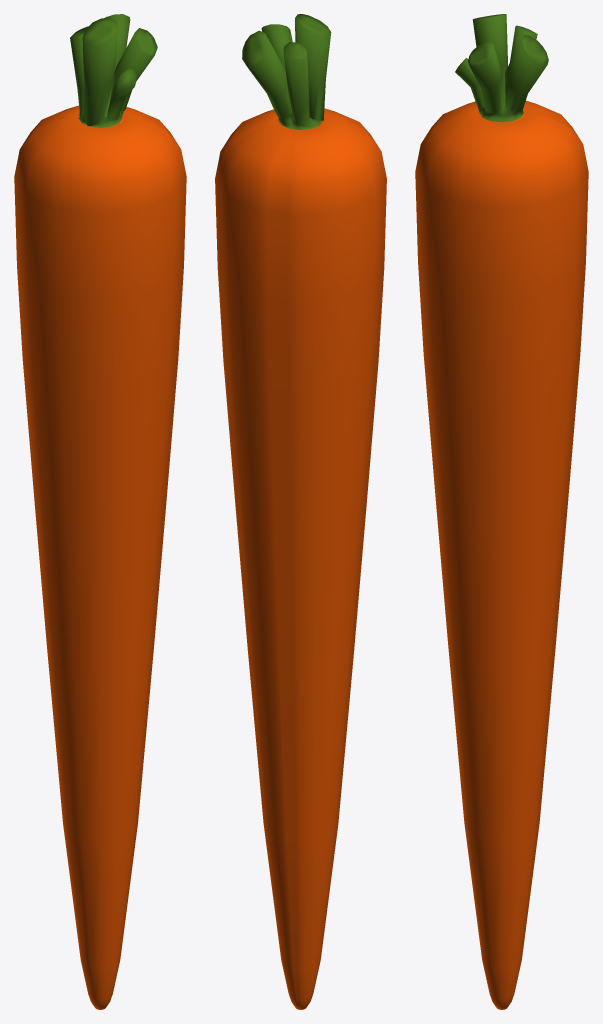
Rendered from Carrot.fbx.
3 views of the same model, side by side, from view 1: azimuth 30°, elevation 25°; view 2: azimuth 150°, elevation 25°; view 3: azimuth 270°, elevation 25° (orthographic).
Parts seen in each view (by area): view 1: Carrot; view 2: Carrot; view 3: Carrot.
Boxes of the visible parts, left/top/right/bottom form: Carrot: left=14, top=14, right=186, bottom=1009; Carrot: left=215, top=14, right=386, bottom=1009; Carrot: left=415, top=14, right=588, bottom=1009.
Size of the model in its own units: 3.59 by 22.78 by 3.59.
